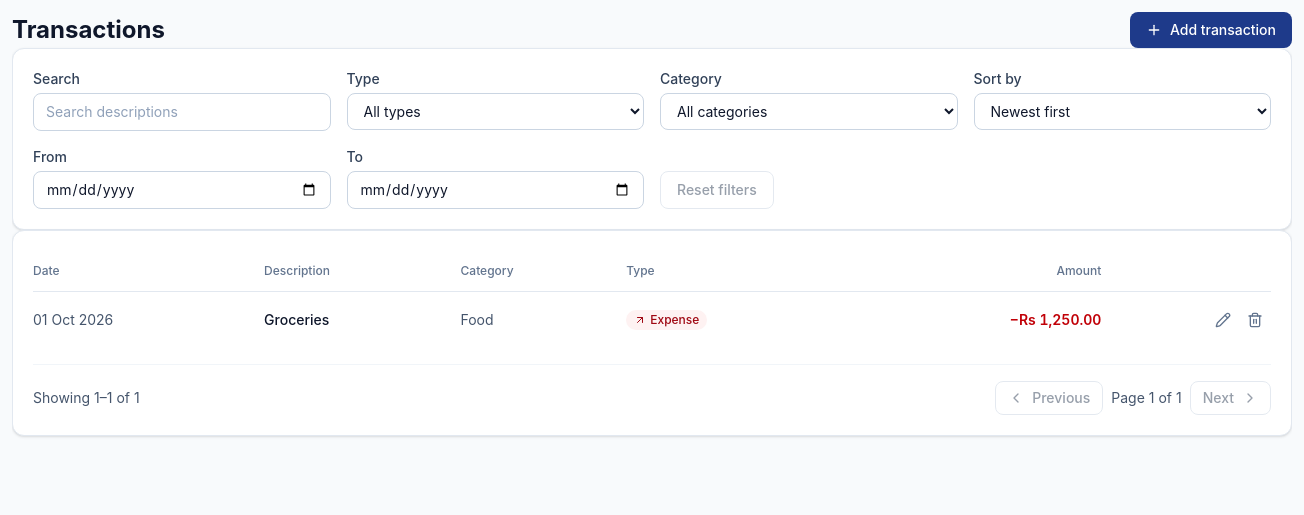
search, filters and pagination › shows a helpful empty state when nothing matches
Type "zzz" into the search field labelled "Search" at (182, 112), box [33,93,330,131]
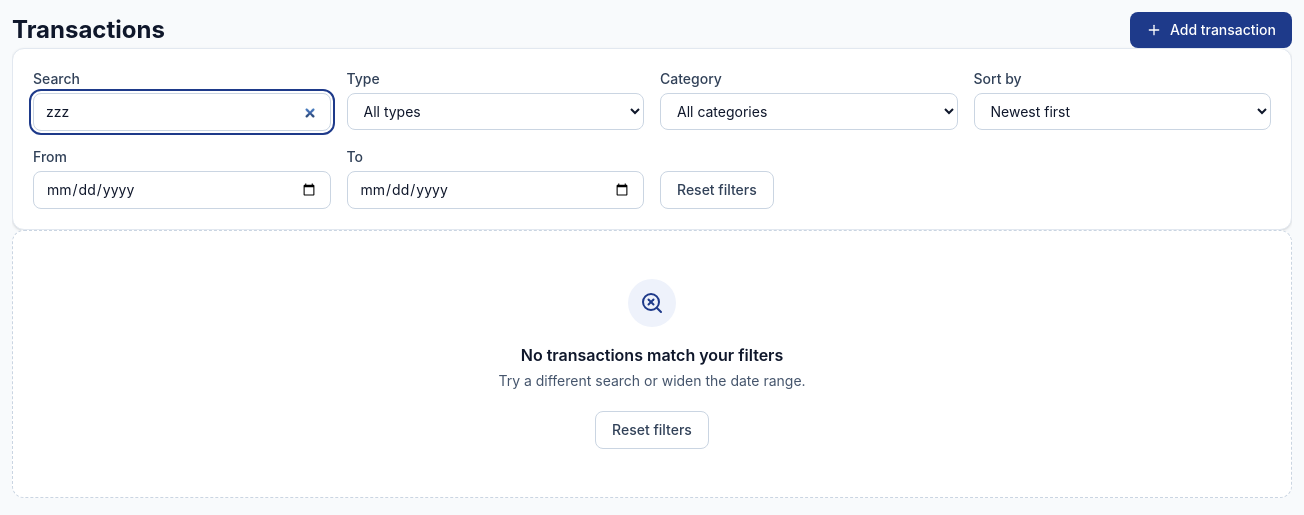
Expected: the heading "No transactions match your filters" is shown, [521,343,783,367]
Click the button "Reset filters" below "No transactions match your filters" at (652, 430), box [595,411,709,449]
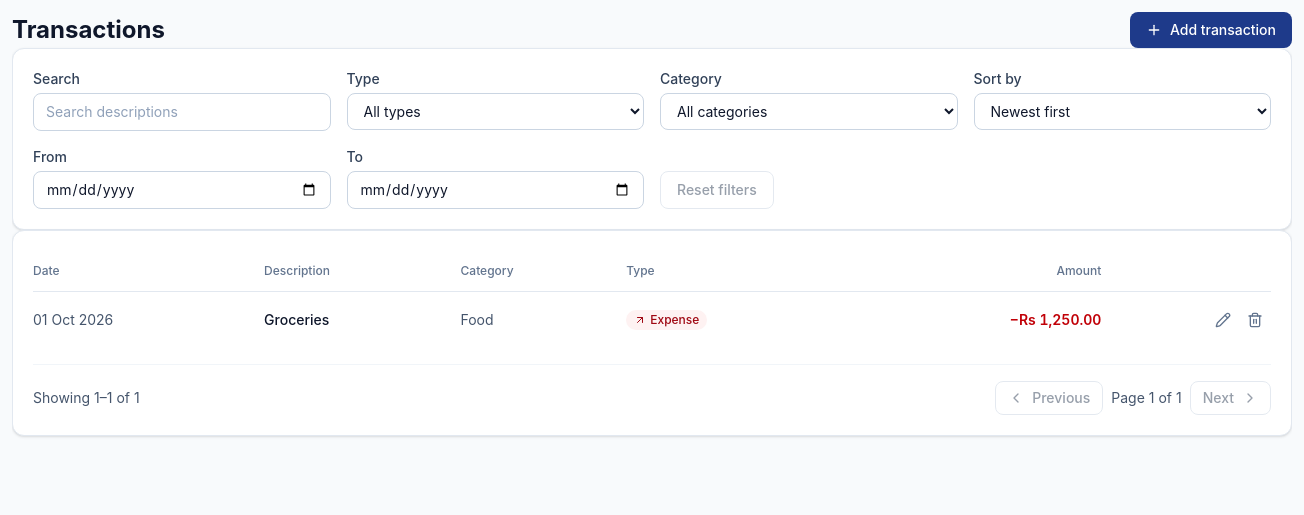
Expected: the text "Groceries" is shown, [264,292,461,348]
